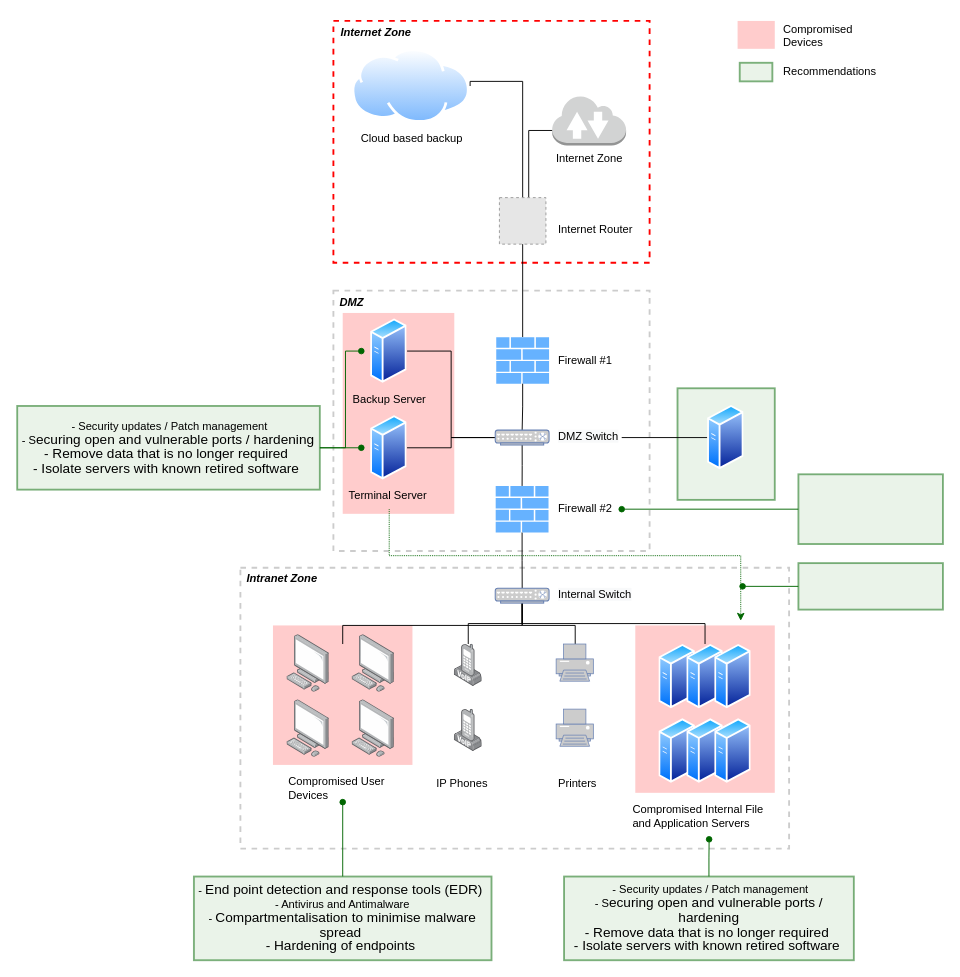
Image size: 960x977. Some labels were removed from this diagram. Grey dashed boxes stand in for pictures. The box of each missing label's shape, as (x1, y1, x2, y2) in pixels:
Honeypot Server: (707, 405, 744, 470)
Includsion of Unified Threat Management (UTM), including features of IDS and IPS: (797, 473, 943, 545)
Move data that is not required in the DMZ to the Intranet zone: (797, 562, 943, 610)
